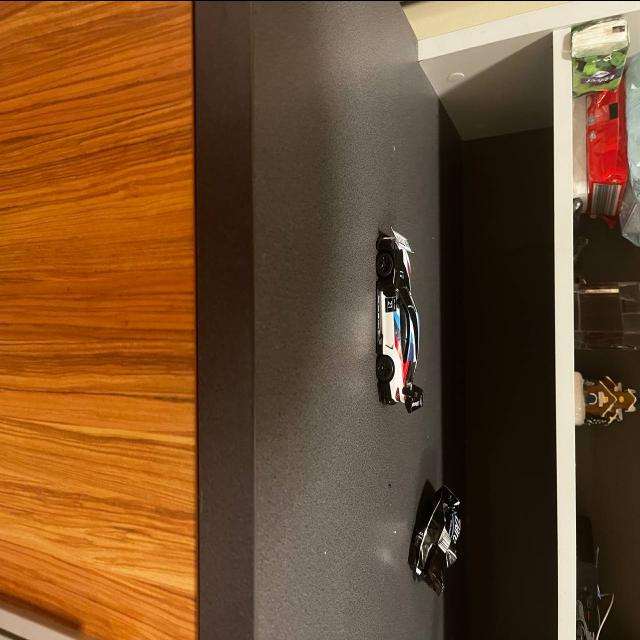cars: (373, 210, 425, 426)
